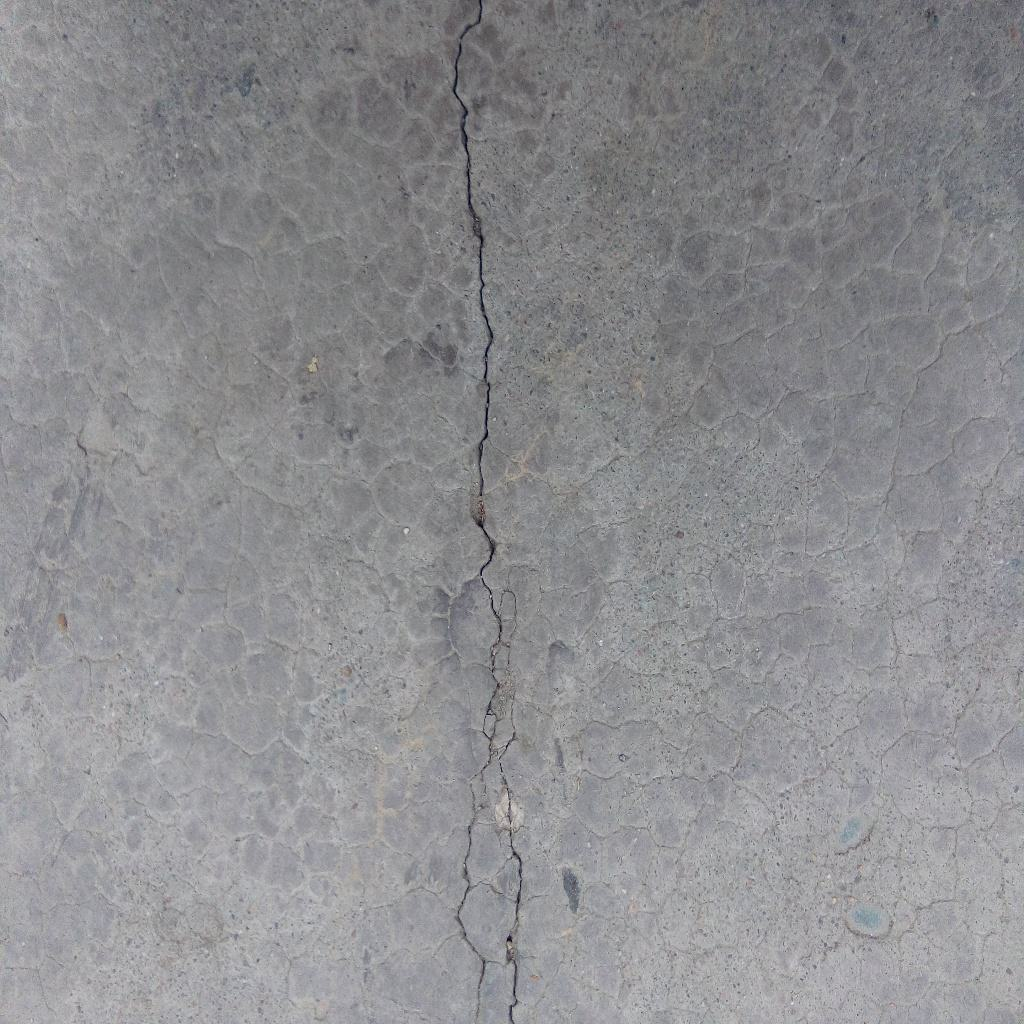Crack: (450, 1, 524, 1024)
